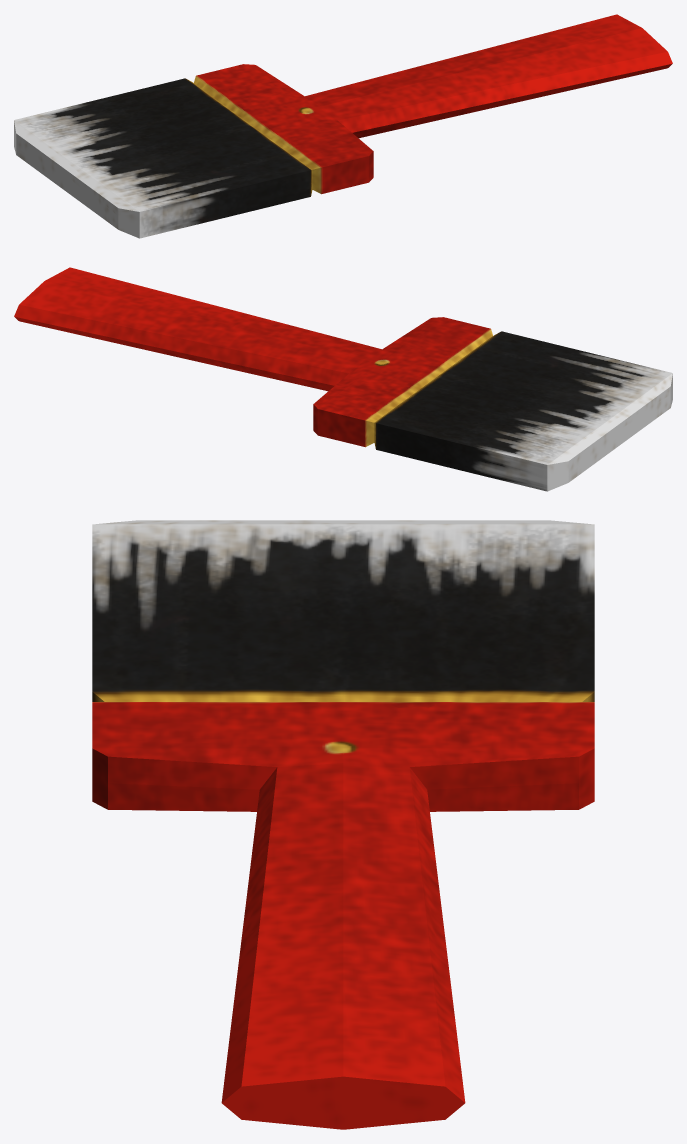
File: Paintbrush.fbx
3 renders of one model, top to bottom at view 1: azimuth 30°, elevation 25°; view 2: azimuth 150°, elevation 25°; view 3: azimuth 270°, elevation 25°, orthographic. The views are drawn at different scales.
Visible parts, largest first — view 1: Paintbrush_1; view 2: Paintbrush_1; view 3: Paintbrush_1.
Part boxes in pixels (box(x1,y1,x2,y2)): Paintbrush_1: box(14, 14, 672, 238); Paintbrush_1: box(14, 267, 672, 491); Paintbrush_1: box(92, 520, 594, 1129).
Bounding box in the file's own units: 95.05 × 4.2 × 35.94.
